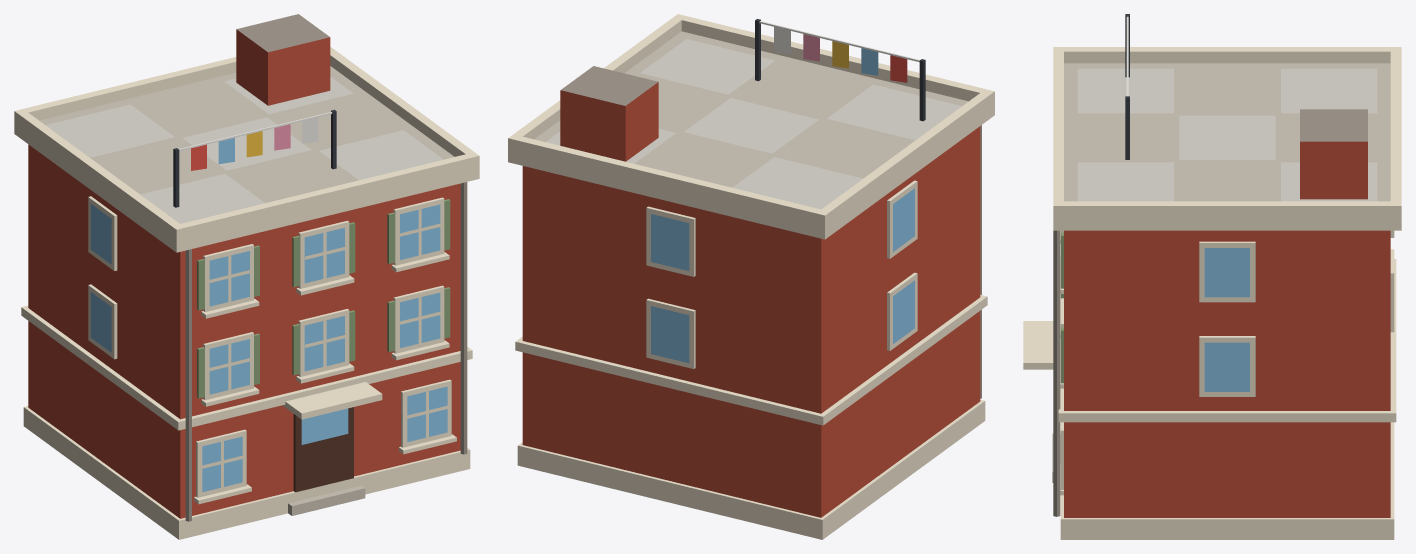
The model's file is B_AptBrick.fbx.
The picture shows the model from 3 angles, left to right: view 1: azimuth 30°, elevation 25°; view 2: azimuth 150°, elevation 25°; view 3: azimuth 270°, elevation 25°; orthographic projection. The views are drawn at different scales.
Visible parts, largest first — view 1: B_AptBrick; view 2: B_AptBrick; view 3: B_AptBrick.
Boxes of the visible parts, x1,y1,x2,y2 form: B_AptBrick: [14, 14, 479, 539]; B_AptBrick: [508, 14, 994, 539]; B_AptBrick: [1023, 14, 1401, 539].
Size of the model in its own units: 4.14 by 4.71 by 4.17.
